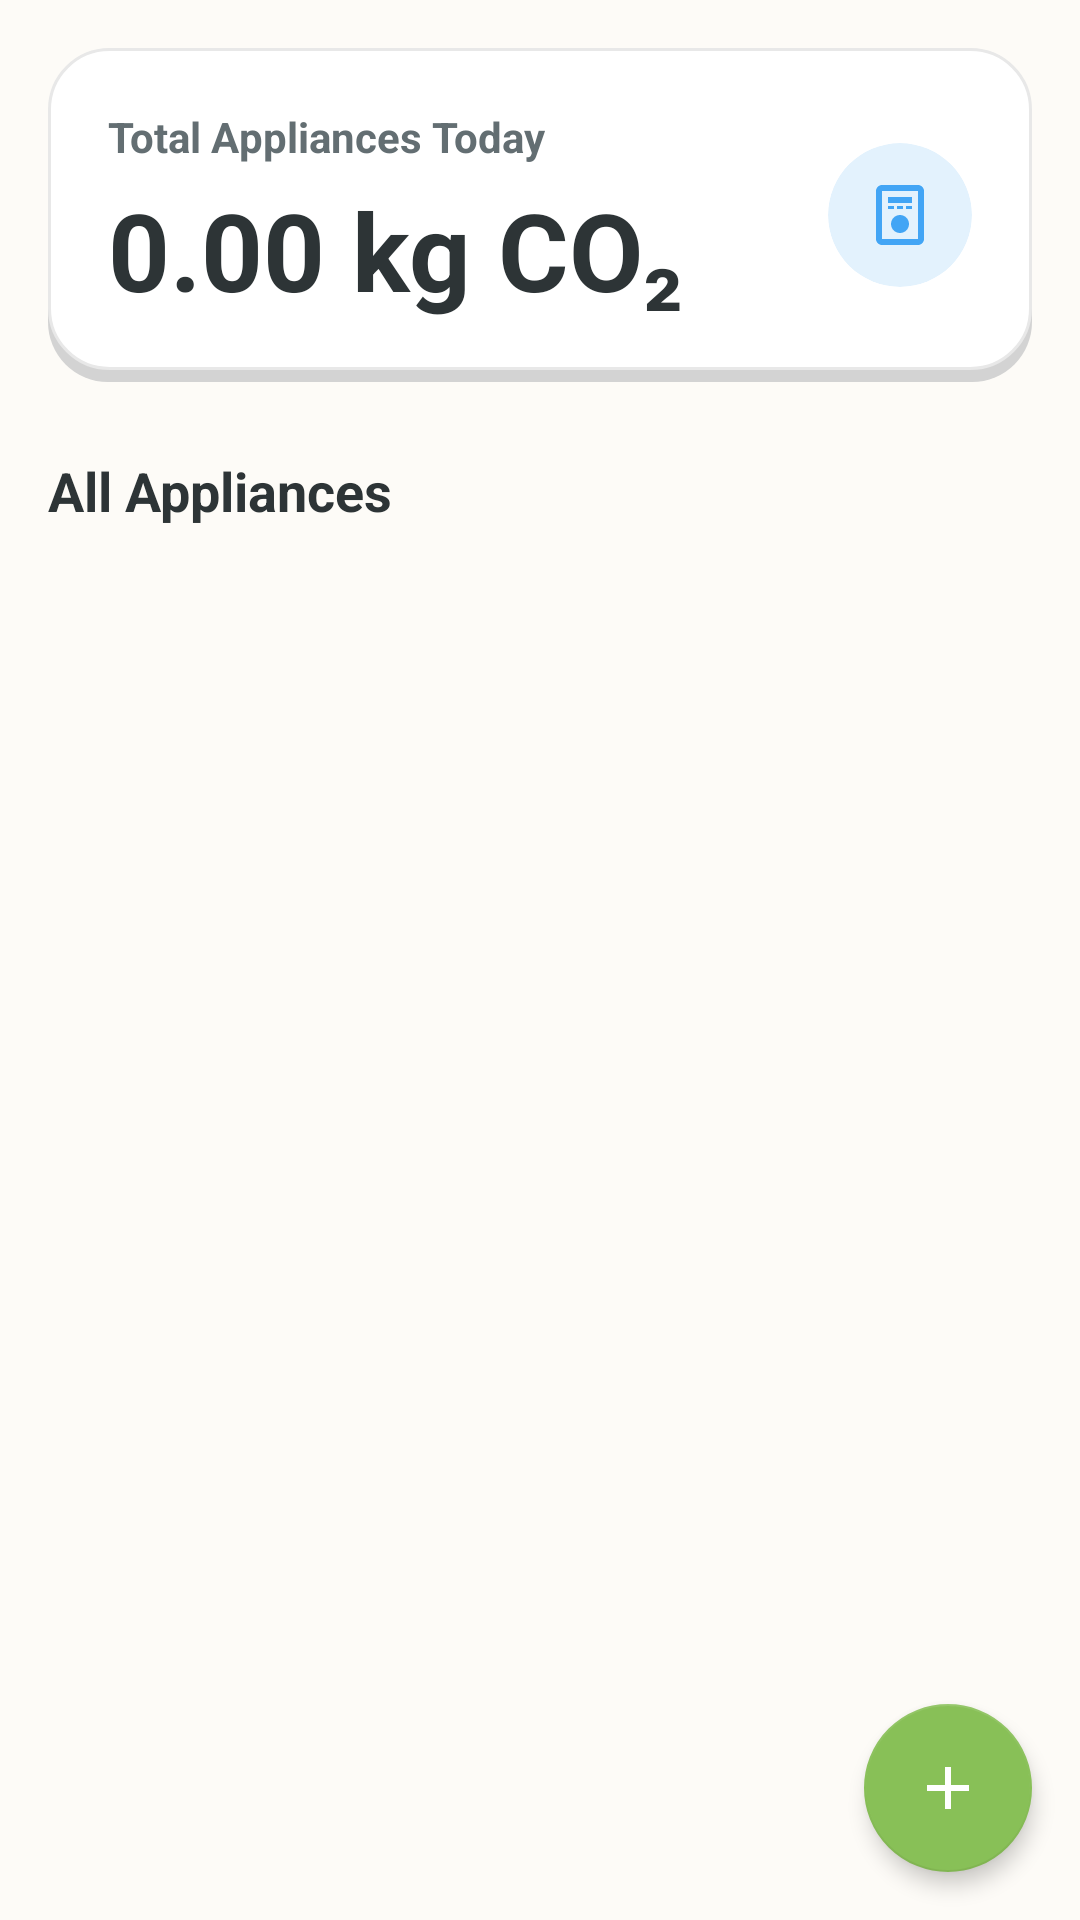

Named icons in this screenshot (1080 × 1920) and their centers, [x,y]:
add: [948,1788]
appliance: [900,215]
